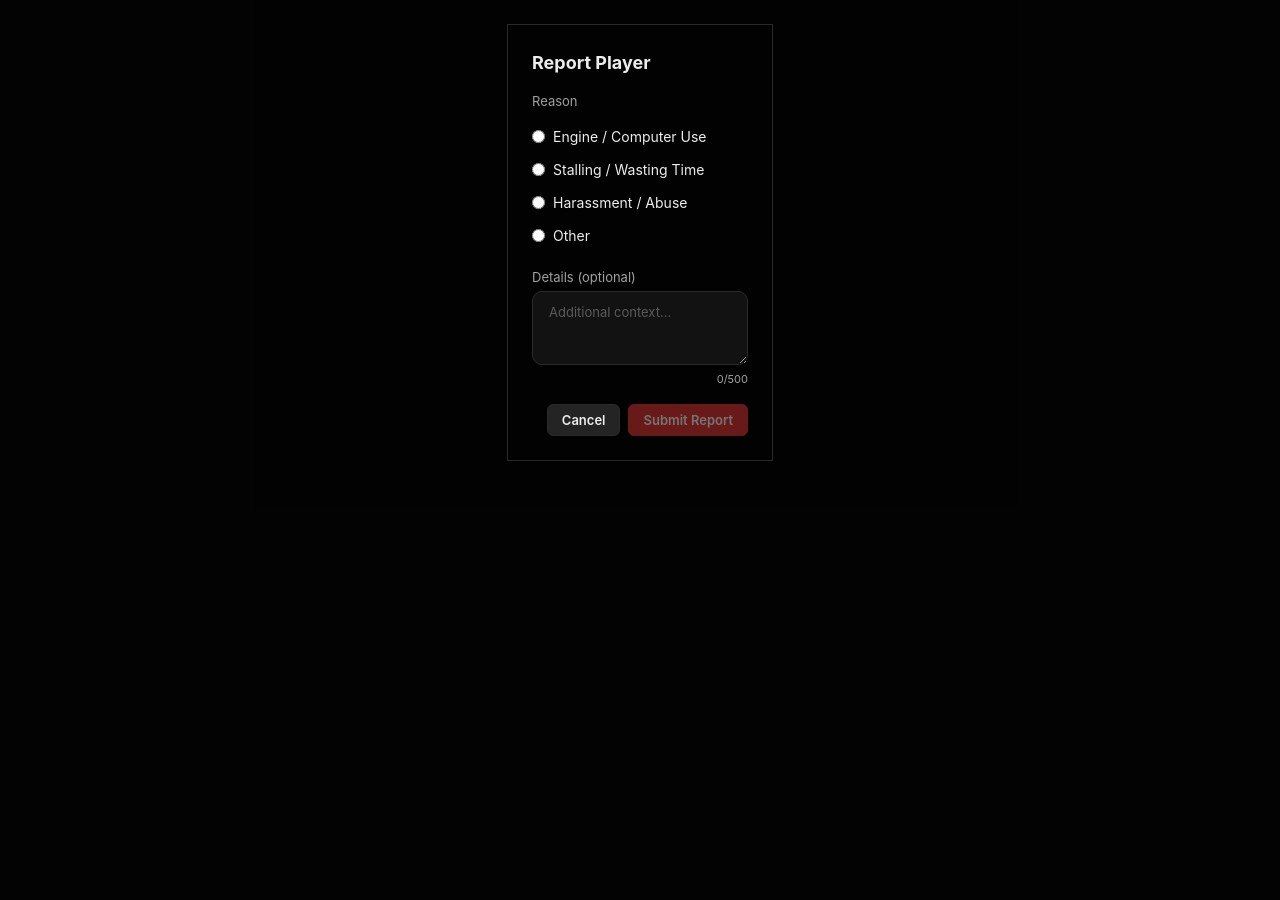
Test: ReportModal › should enable submit button when reason is selected
Click the text "Engine / Computer Use" at (619, 136), box [532,128,706,144]
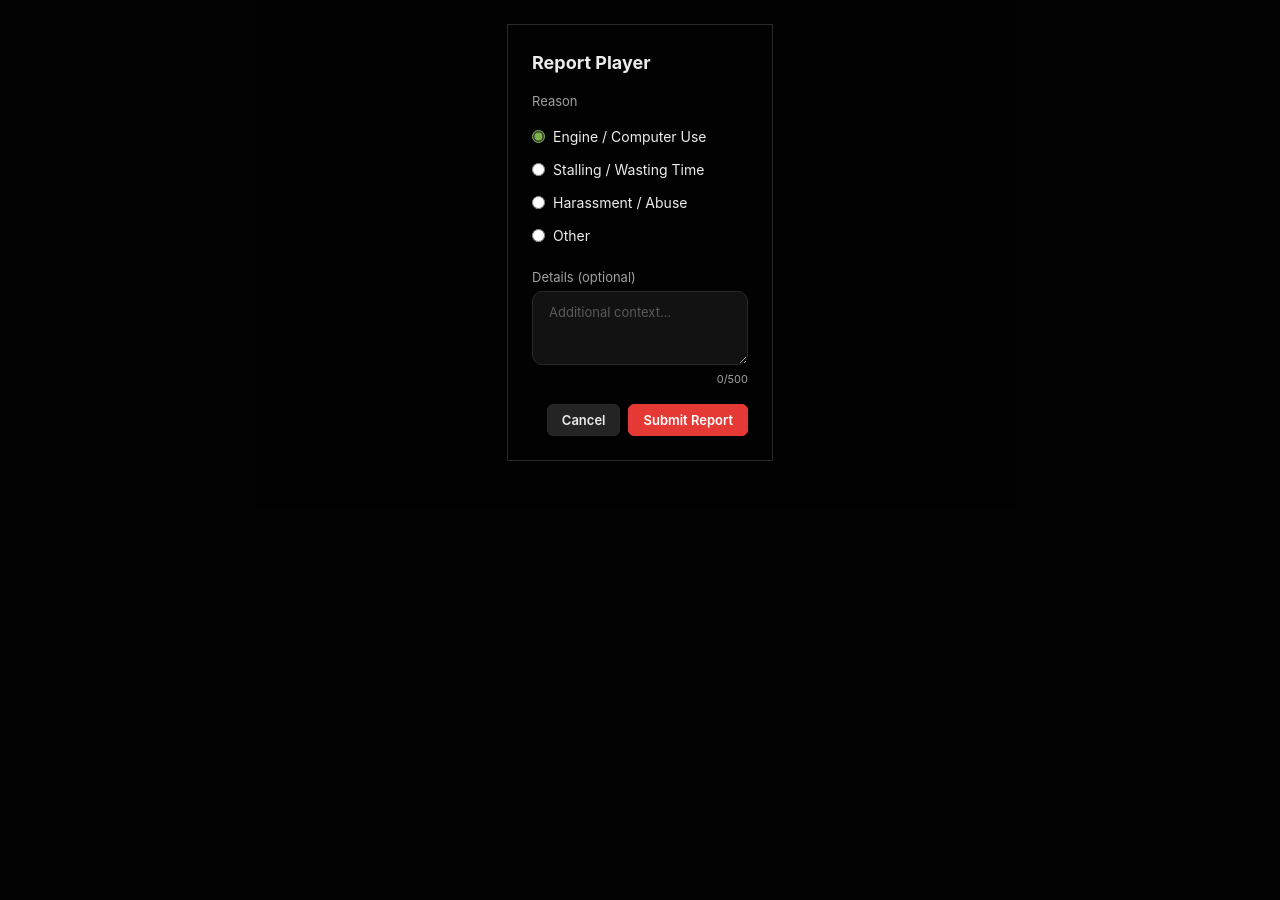
Now the button "Submit Report" is enabled, box [628,404,748,436]
